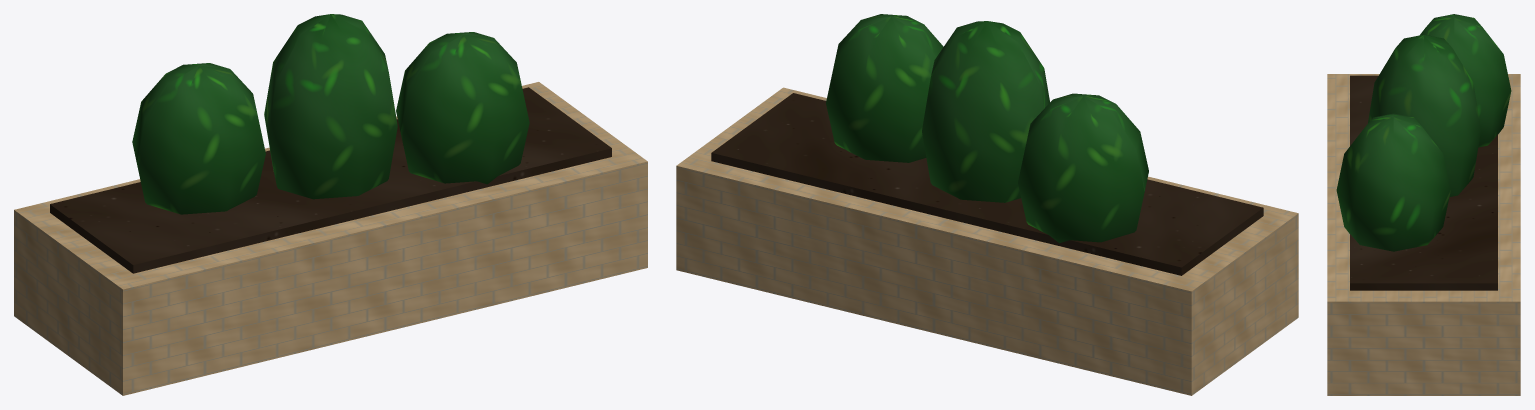
The model's file is planter-raised-urban.lod2.gltf.
3 views of the same model, side by side, from view 1: azimuth 30°, elevation 25°; view 2: azimuth 150°, elevation 25°; view 3: azimuth 270°, elevation 25° (orthographic). The views are drawn at different scales.
Visible parts, largest first — view 1: planter-raised-urban; view 2: planter-raised-urban; view 3: planter-raised-urban.
Boxes of the visible parts, left/top/right/bottom form: planter-raised-urban: left=14, top=14, right=647, bottom=395; planter-raised-urban: left=676, top=14, right=1298, bottom=395; planter-raised-urban: left=1327, top=14, right=1520, bottom=395.
Bounding box in the file's own units: 3.2 × 1.62 × 1.15.
Materials: 3 (3 with a texture image).
